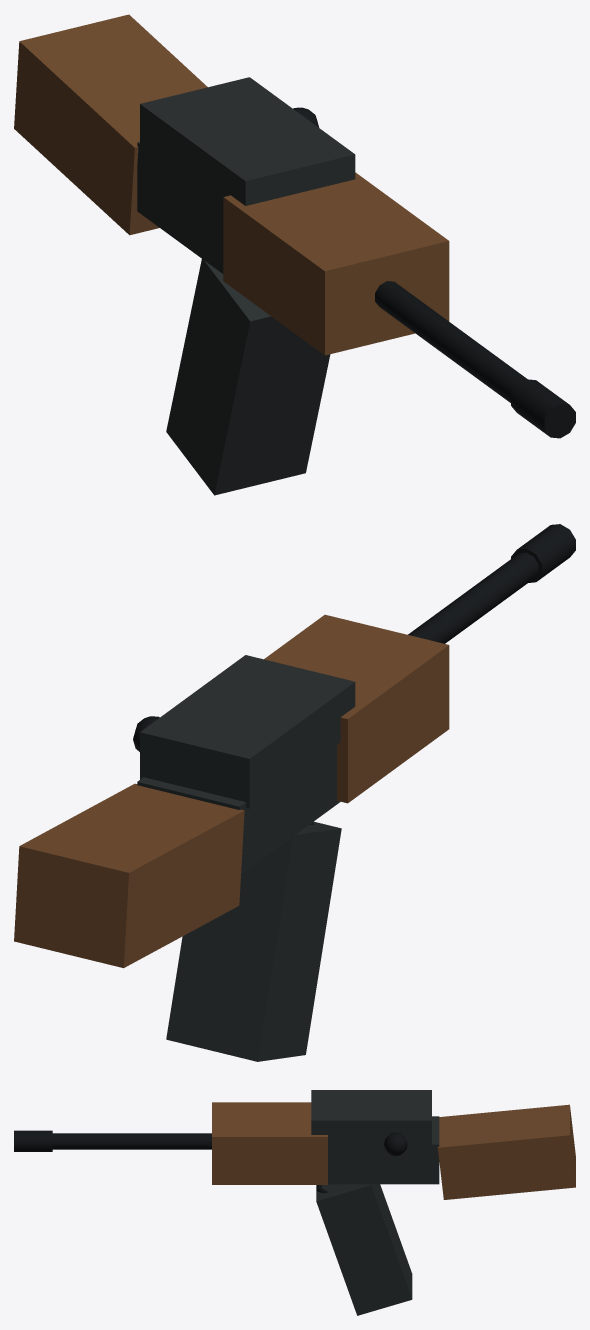
File: ak47-rifle.glb
The picture shows the model from 3 angles, top to bottom: view 1: azimuth 30°, elevation 25°; view 2: azimuth 150°, elevation 25°; view 3: azimuth 270°, elevation 25°; orthographic projection. The views are drawn at different scales.
Parts seen in each view (by area): view 1: woodHandguard, magazine, ak47Stock, dustCover, ak47Receiver, ak47Barrel, ak47Muzzle; view 2: ak47Stock, magazine, dustCover, woodHandguard, ak47Receiver, ak47Barrel, ak47Muzzle; view 3: ak47Stock, woodHandguard, magazine, dustCover, ak47Receiver, ak47Barrel, ak47Muzzle, chargingHandleKnob.
Boxes of the visible parts, x1,y1,x2,y2 form: woodHandguard: (223,172,449,355); magazine: (166,259,330,495); ak47Stock: (14,14,207,235); dustCover: (140,77,355,214); ak47Receiver: (137,142,223,273); ak47Barrel: (375,281,527,402); ak47Muzzle: (511,379,575,438); ak47Stock: (14,783,244,968); magazine: (166,821,341,1061); dustCover: (140,655,355,808); woodHandguard: (264,614,449,803); ak47Receiver: (137,745,340,874); ak47Barrel: (408,552,538,643); ak47Muzzle: (511,524,575,582); ak47Stock: (437,1104,575,1199); woodHandguard: (212,1102,327,1184); magazine: (316,1184,412,1315); dustCover: (311,1090,431,1148); ak47Receiver: (328,1116,439,1184); ak47Barrel: (52,1133,211,1149); ak47Muzzle: (14,1130,52,1151); chargingHandleKnob: (383,1132,407,1156).
Bounding box in the file's own units: 0.42 × 0.9036 × 2.33.
